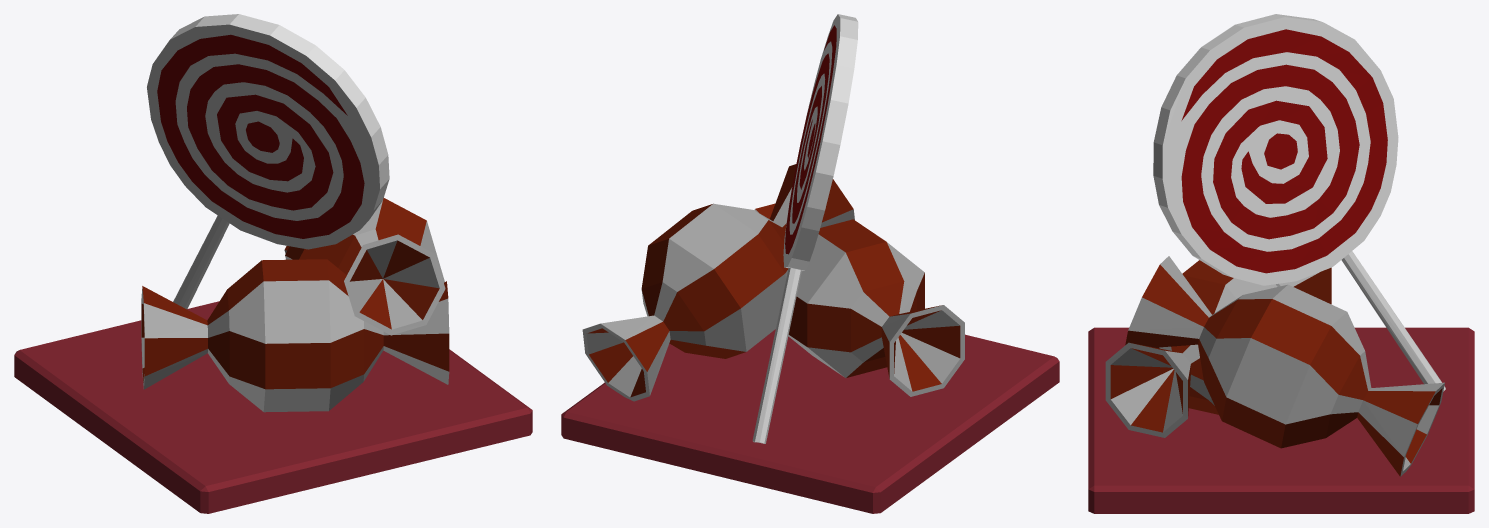
File: W_O_Playground_CandySymbolic_001_L1.fbx
3 renders of one model, left to right at view 1: azimuth 30°, elevation 25°; view 2: azimuth 150°, elevation 25°; view 3: azimuth 270°, elevation 25°, orthographic. The views are drawn at different scales.
Visible parts, largest first — view 1: W_O_Playground_CandySymbolic_001_L1; view 2: W_O_Playground_CandySymbolic_001_L1; view 3: W_O_Playground_CandySymbolic_001_L1.
Part boxes in pixels (x1,y1,x2,y2): W_O_Playground_CandySymbolic_001_L1: (14, 14, 532, 513); W_O_Playground_CandySymbolic_001_L1: (561, 14, 1059, 513); W_O_Playground_CandySymbolic_001_L1: (1088, 14, 1474, 513).
Size of the model in its own units: 2.04 by 2.28 by 2.
